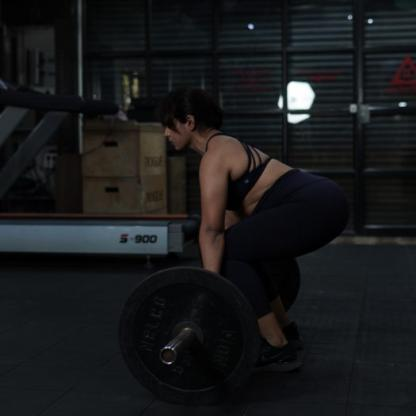Barbell: (106, 262, 267, 410)
